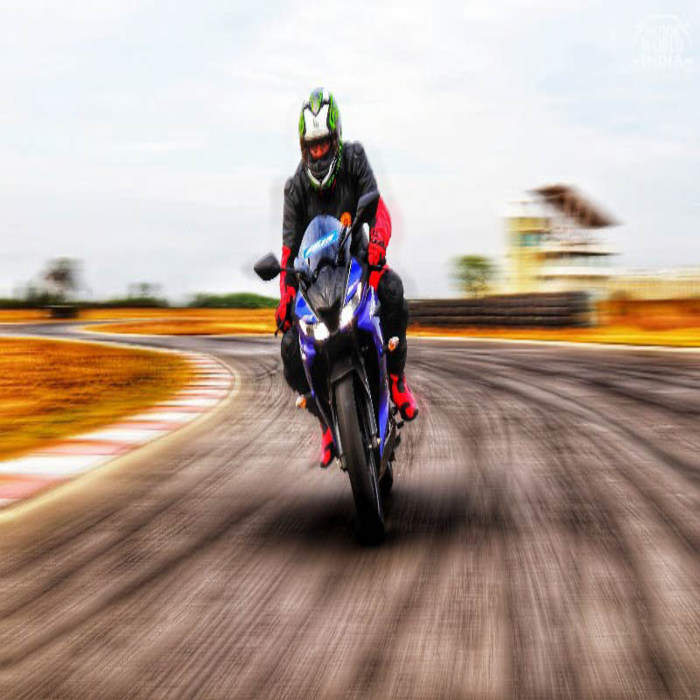h: (297, 84, 345, 196)
